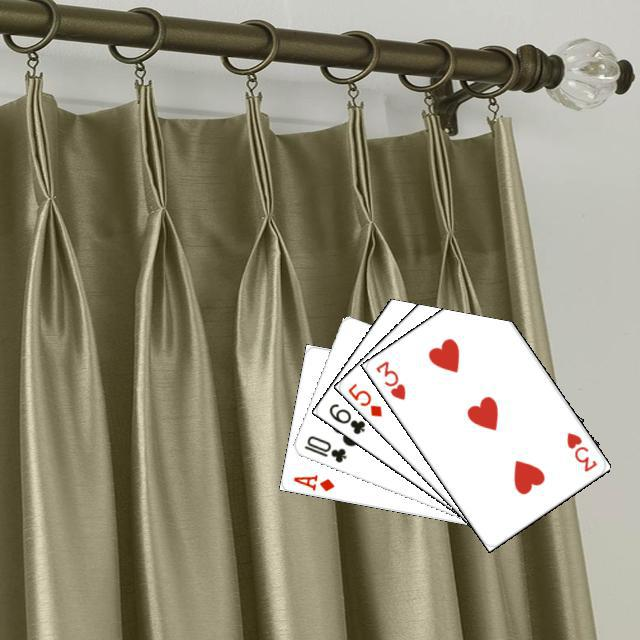10c: (299, 430, 348, 464)
3h: (561, 427, 599, 474), (371, 356, 407, 402)
5d: (343, 378, 384, 418)
6c: (324, 398, 367, 436)
Ad: (288, 470, 336, 493)
